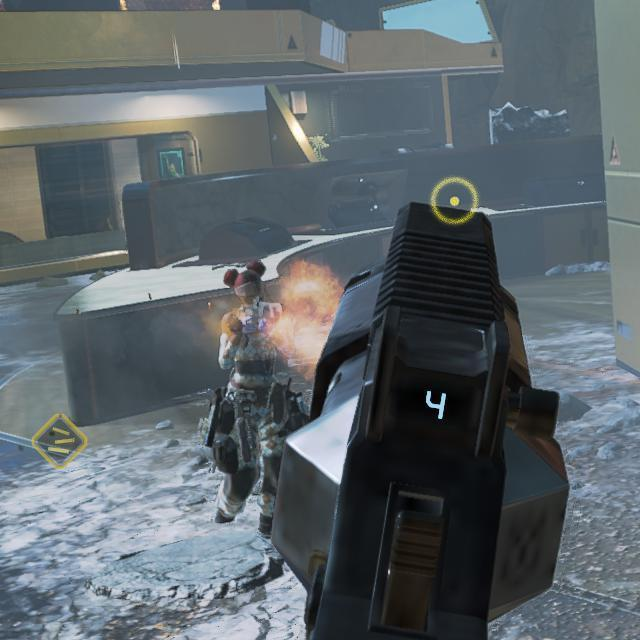avatar: (203, 257, 291, 541)
